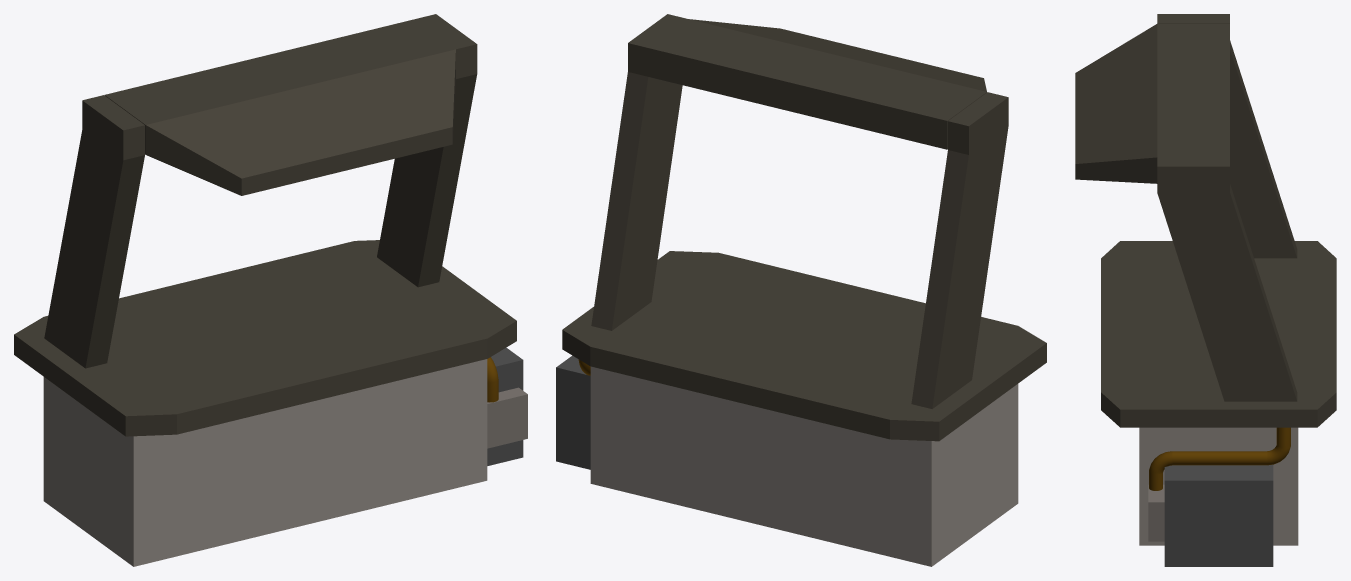
File: 48_booth4.fbx
3 views of the same model, side by side, from view 1: azimuth 30°, elevation 25°; view 2: azimuth 150°, elevation 25°; view 3: azimuth 270°, elevation 25° (orthographic). The views are drawn at different scales.
Parts seen in each view (by area): view 1: pCube136; view 2: pCube136; view 3: pCube136, pCylinder458, pCylinder457, pCylinder456.
Part boxes in pixels (x1,y1,x2,y2): pCube136: (14,14,527,566); pCube136: (556,14,1046,566); pCube136: (1075,14,1336,566); pCylinder458: (1172,451,1267,465); pCylinder457: (1267,427,1290,465); pCylinder456: (1149,451,1172,490).
Size of the model in its own units: 2.71 by 2.63 by 1.64.
